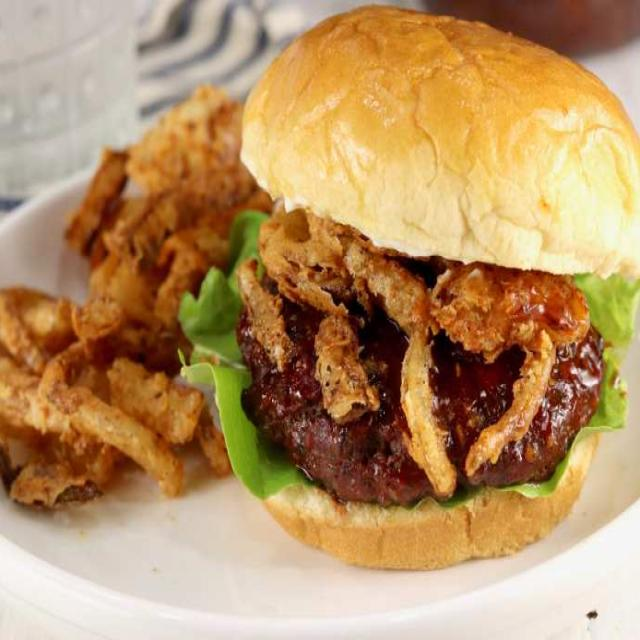burger: (183, 0, 640, 570)
